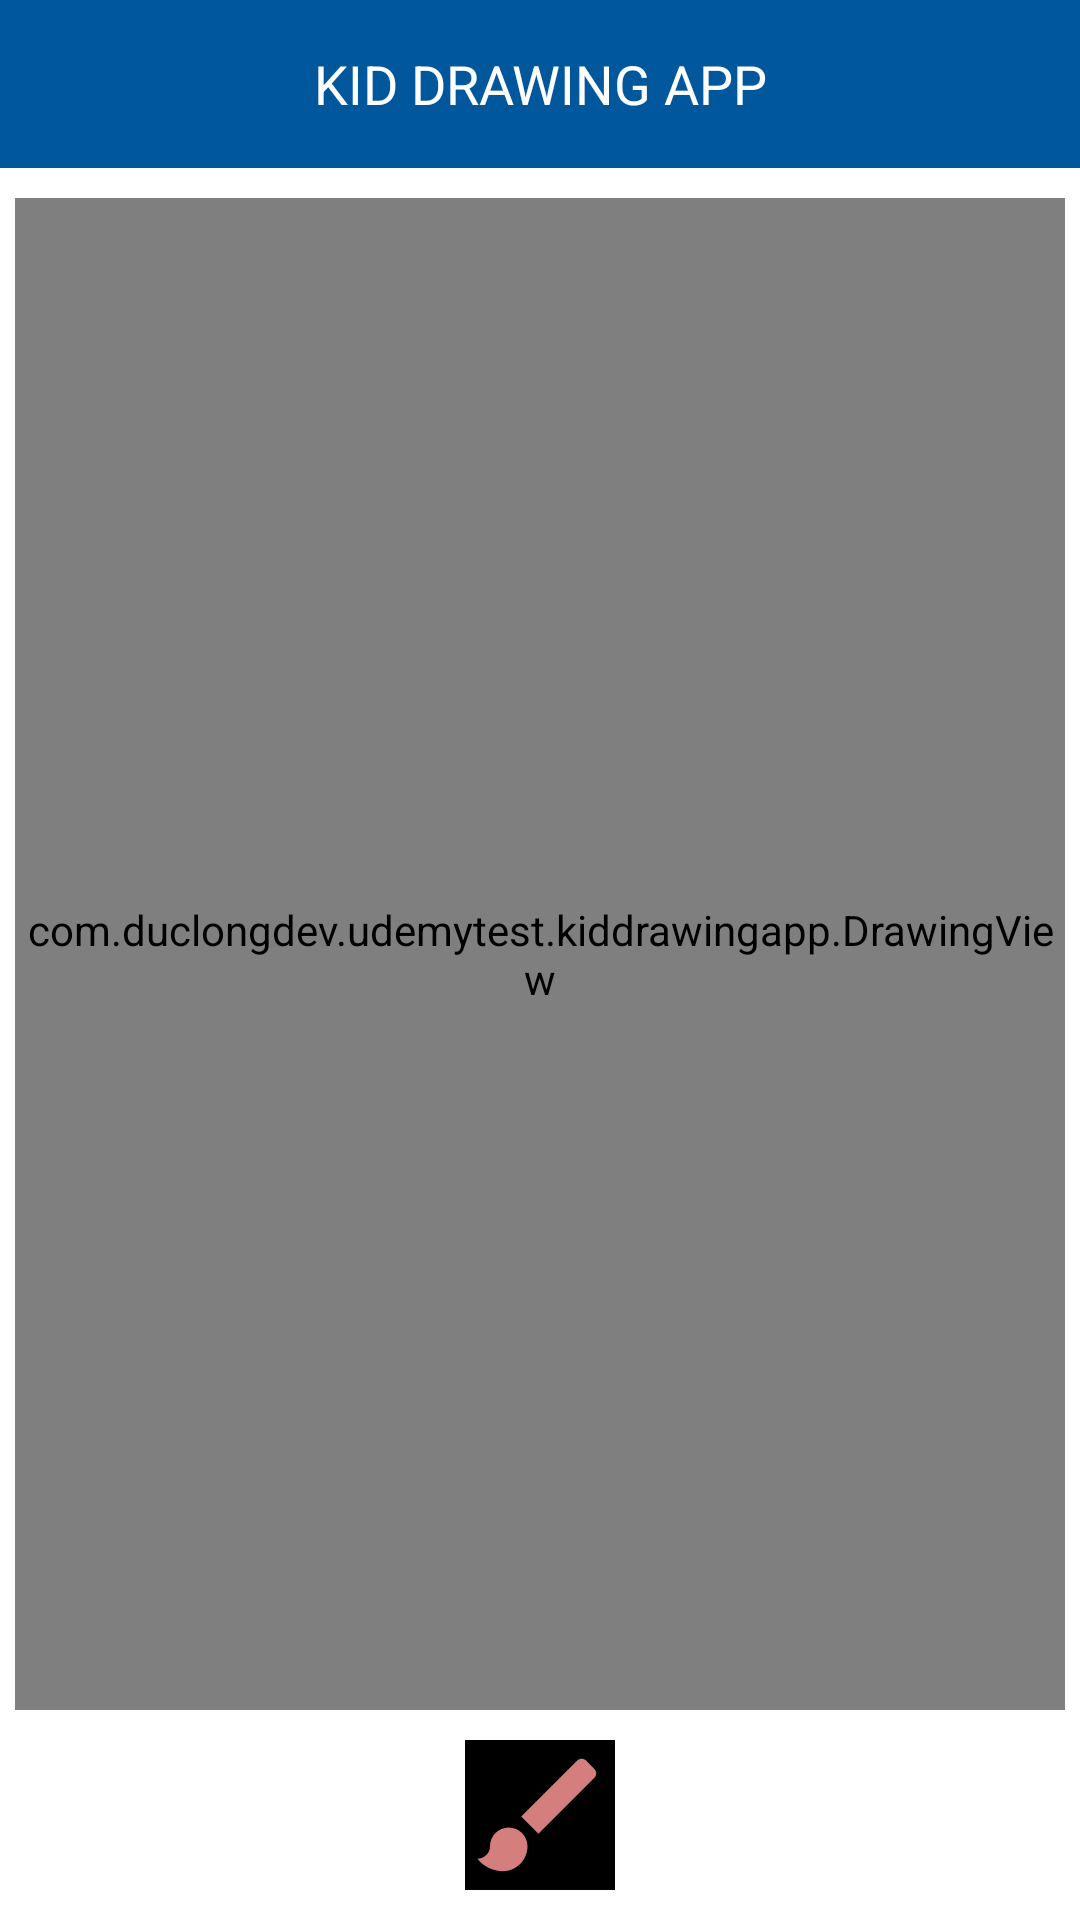

Icons on this 1080 x 1920 Android screen, each with the point to tap as [x,y]:
brush: [540,1815]
